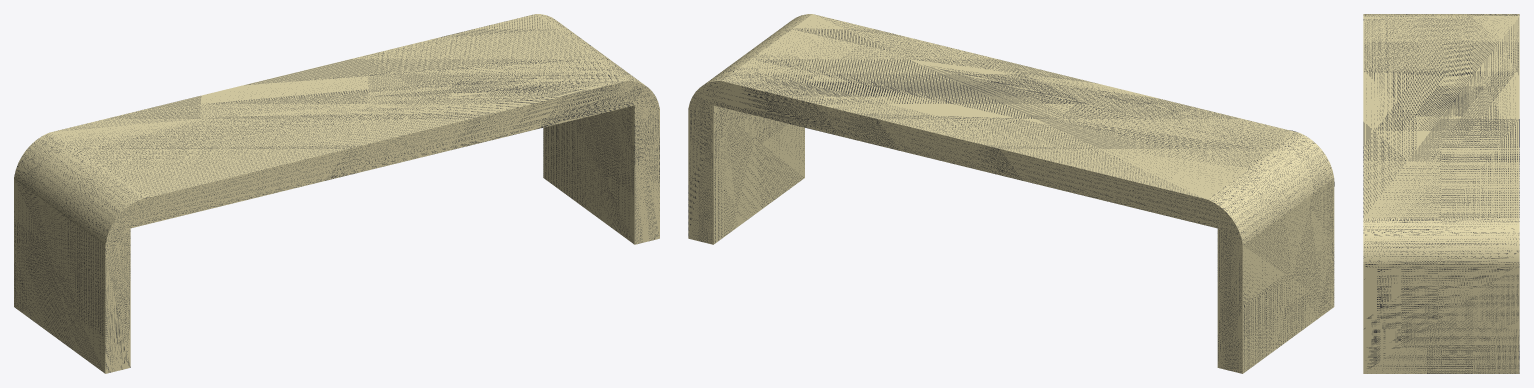
3 views of the same model, side by side, from view 1: azimuth 30°, elevation 25°; view 2: azimuth 150°, elevation 25°; view 3: azimuth 270°, elevation 25° (orthographic). The views are drawn at different scales.
Parts seen in each view (by area): view 1: mesh1_mesh1-geometry; view 2: mesh1_mesh1-geometry; view 3: mesh1_mesh1-geometry.
Part boxes in pixels (x1,y1,x2,y2): mesh1_mesh1-geometry: (14,14,659,373); mesh1_mesh1-geometry: (688,14,1334,373); mesh1_mesh1-geometry: (1363,14,1519,373).
Size of the model in its own units: 0.9271 by 0.2654 by 0.2647.
